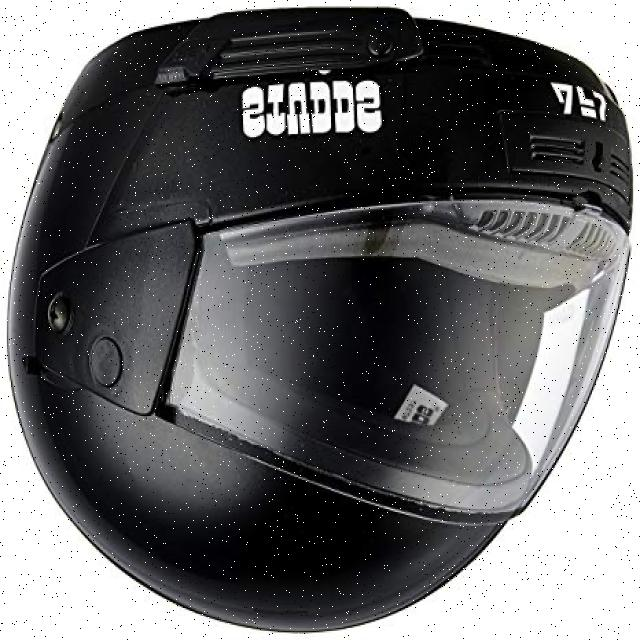Helmet: (9, 10, 632, 632)
